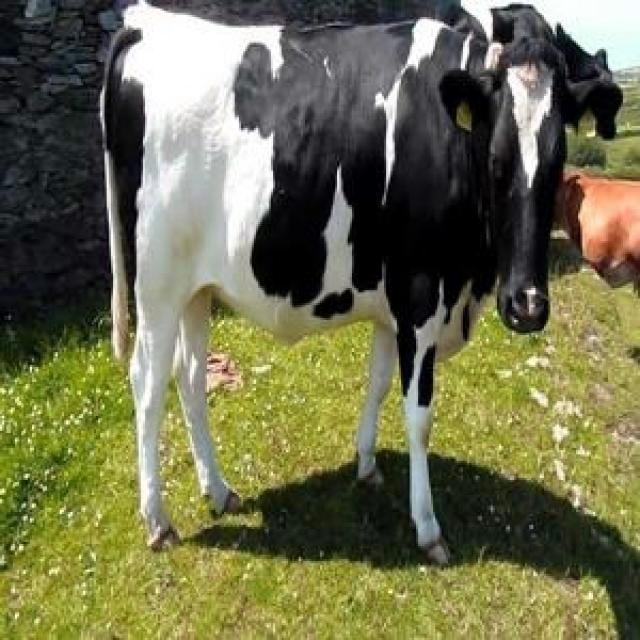cow: (104, 1, 562, 561)
